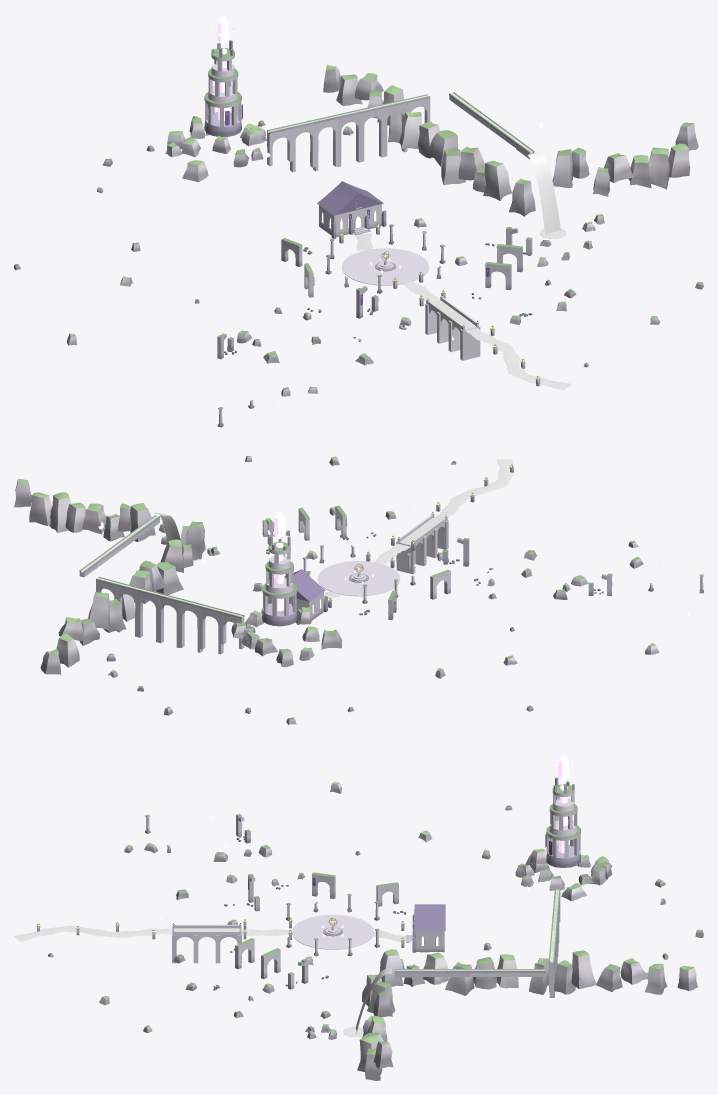
The model's file is rovine_cristallo.glb.
3 views of the same model, one above another, from view 1: azimuth 30°, elevation 25°; view 2: azimuth 150°, elevation 25°; view 3: azimuth 270°, elevation 25° (orthographic). The views are drawn at different scales.
Parts seen in each view (by area): view 1: cascata.rupe, cascata.blocchi, viale.lastre, rovine.blocchi, torre.blocchi, torre.rupe, cascata.cascata, ponte.blocchi, intorno.rupe, sala.blocchi, sala.colore, fiume.rupe; view 2: cascata.rupe, cascata.blocchi, viale.lastre, rovine.blocchi, torre.blocchi, torre.rupe, ponte.blocchi, intorno.rupe, cascata.cascata, sala.colore, fiume.rupe, torre.cristallo (+1 smaller); view 3: cascata.rupe, viale.lastre, rovine.blocchi, torre.blocchi, torre.rupe, cascata.blocchi, intorno.rupe, ponte.blocchi, cascata.cascata, sala.colore, fiume.rupe, sala.blocchi (+1 smaller).
Part boxes in pixels (left/top/right/bottom): cascata.rupe: left=323, top=64, right=698, bottom=260; cascata.blocchi: left=267, top=92, right=534, bottom=172; viale.lastre: left=342, top=233, right=571, bottom=390; rovine.blocchi: left=281, top=224, right=532, bottom=341; torre.blocchi: left=204, top=40, right=241, bottom=136; torre.rupe: left=165, top=117, right=266, bottom=182; cascata.cascata: left=268, top=93, right=566, bottom=238; ponte.blocchi: left=425, top=296, right=480, bottom=360; intorno.rupe: left=14, top=116, right=703, bottom=393; sala.blocchi: left=319, top=204, right=386, bottom=238; sala.colore: left=317, top=181, right=383, bottom=223; fiume.rupe: left=263, top=289, right=576, bottom=396; cascata.rupe: left=14, top=479, right=220, bottom=674; cascata.blocchi: left=79, top=515, right=244, bottom=654; viale.lastre: left=317, top=459, right=513, bottom=598; rovine.blocchi: left=262, top=505, right=492, bottom=620; torre.blocchi: left=262, top=535, right=297, bottom=626; torre.rupe: left=231, top=607, right=341, bottom=667; ponte.blocchi: left=396, top=513, right=448, bottom=574; intorno.rupe: left=106, top=456, right=659, bottom=724; cascata.cascata: left=81, top=512, right=243, bottom=616; sala.colore: left=284, top=569, right=325, bottom=601; fiume.rupe: left=282, top=507, right=643, bottom=586; torre.cristallo: left=247, top=510, right=319, bottom=642; cascata.rupe: left=305, top=949, right=697, bottom=1080; viale.lastre: left=14, top=914, right=406, bottom=949; rovine.blocchi: left=213, top=872, right=406, bottom=990; torre.blocchi: left=546, top=777, right=580, bottom=867; torre.rupe: left=515, top=848, right=612, bottom=901; cascata.blocchi: left=395, top=889, right=560, bottom=997; intorno.rupe: left=48, top=781, right=703, bottom=1032; ponte.blocchi: left=172, top=924, right=241, bottom=963; cascata.cascata: left=343, top=889, right=559, bottom=1036; sala.colore: left=413, top=904, right=445, bottom=934; fiume.rupe: left=144, top=843, right=243, bottom=1018; sala.blocchi: left=412, top=914, right=444, bottom=952.
Bounding box in the file's own units: 234 × 68.42 × 227.
